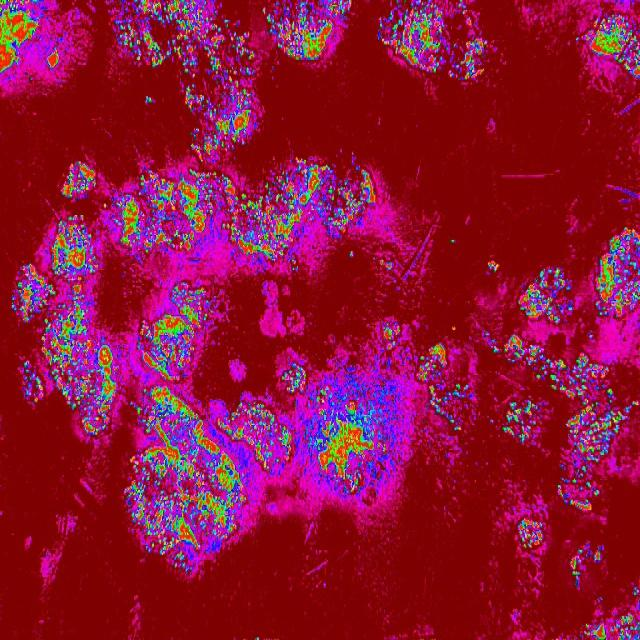fire: (124, 383, 302, 584), (112, 158, 382, 262), (14, 213, 113, 438), (303, 380, 409, 502), (108, 0, 256, 70), (557, 350, 618, 511), (375, 0, 488, 82), (137, 284, 218, 384), (177, 70, 262, 160), (262, 0, 352, 59), (590, 221, 640, 325), (416, 344, 471, 434), (480, 331, 559, 393), (574, 12, 640, 78), (518, 265, 576, 326), (0, 0, 43, 76), (500, 396, 545, 446), (576, 607, 640, 640), (566, 542, 606, 584), (62, 162, 97, 200), (514, 520, 548, 550), (379, 320, 403, 350), (619, 398, 640, 428), (278, 361, 308, 381), (45, 47, 62, 71), (484, 256, 502, 274), (380, 258, 394, 277), (630, 582, 640, 600), (140, 94, 154, 106), (590, 594, 606, 604), (288, 262, 300, 272), (102, 200, 110, 212), (447, 237, 456, 244), (588, 331, 594, 339), (488, 417, 494, 425), (252, 636, 263, 640)
